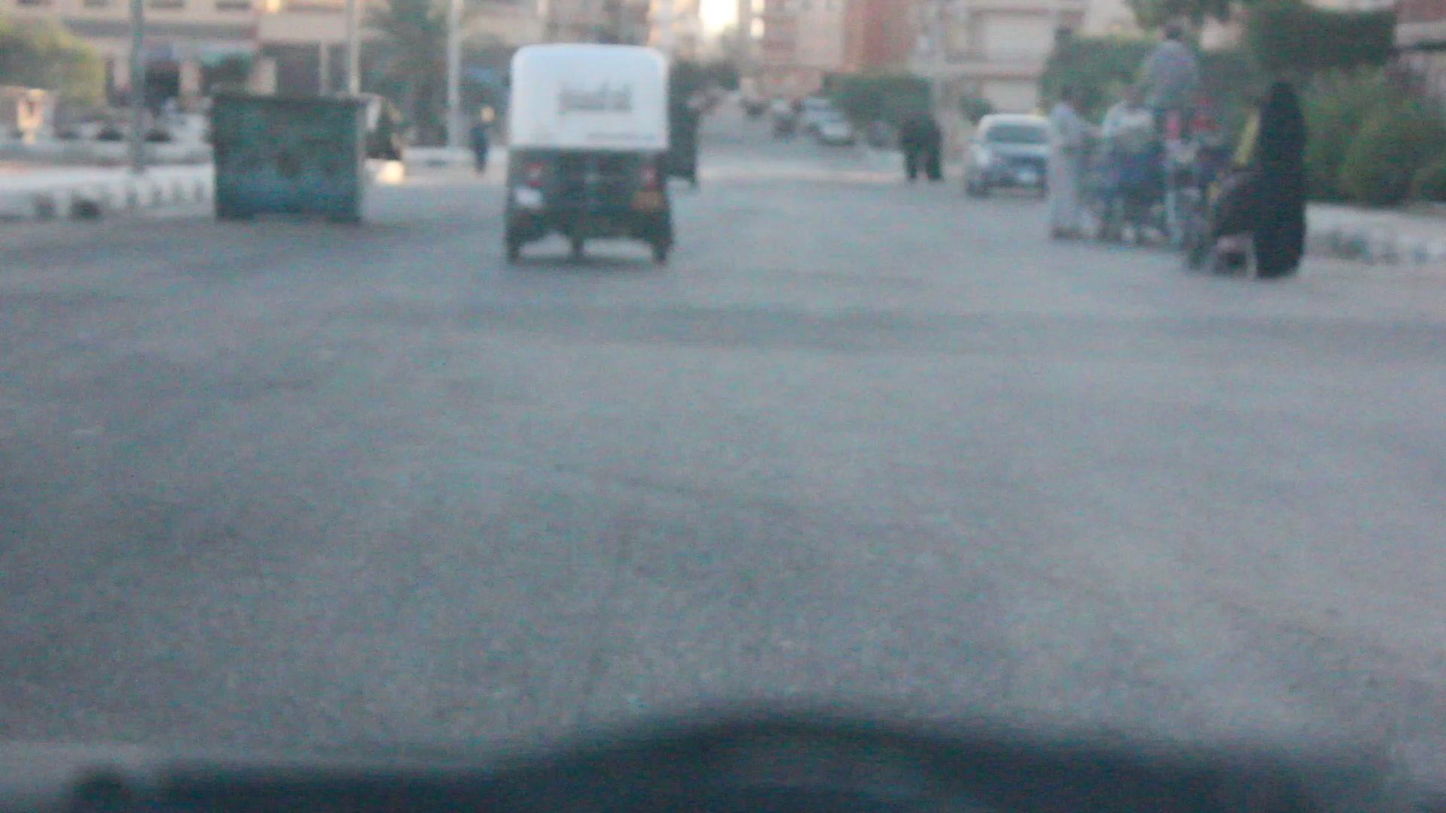Bump: (335, 292, 1446, 393)
